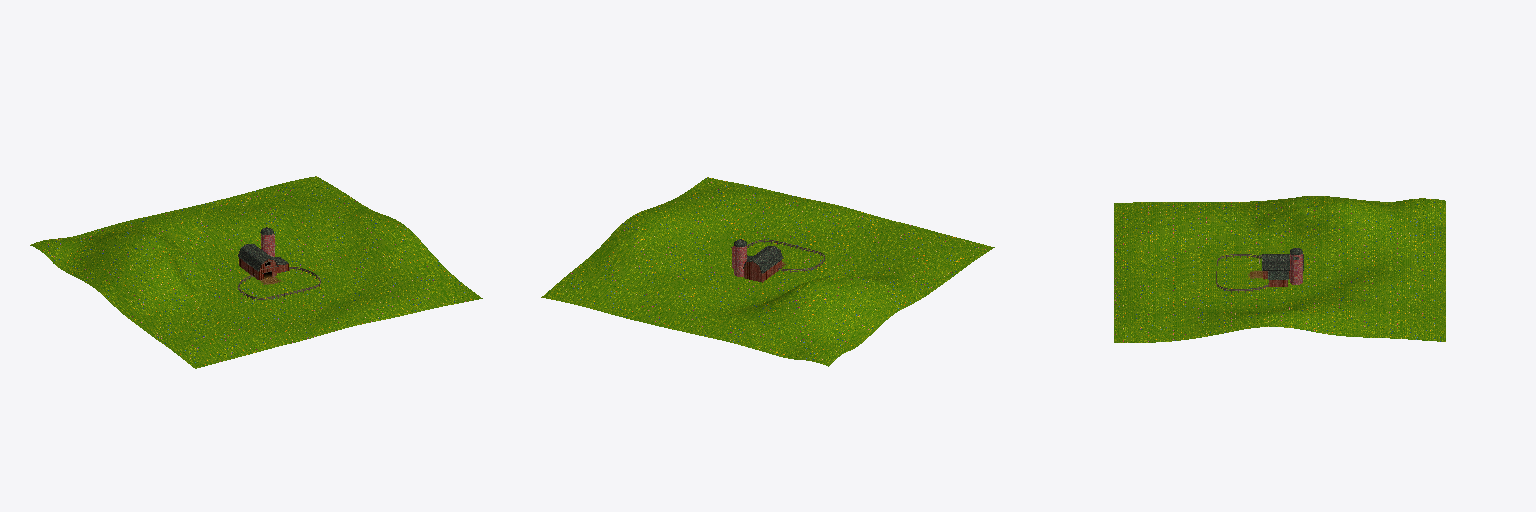
3 renders of one model, left to right at view 1: azimuth 30°, elevation 25°; view 2: azimuth 150°, elevation 25°; view 3: azimuth 270°, elevation 25°, orthographic.
Parts seen in each view (by area): view 1: Grass_Plane, Barn_Cube.001; view 2: Grass_Plane, Barn_Cube.001; view 3: Grass_Plane, Barn_Cube.001.
Part boxes in pixels (x1,y1,x2,y2): Grass_Plane: (30, 176, 482, 368); Barn_Cube.001: (238, 244, 288, 279); Grass_Plane: (541, 177, 994, 366); Barn_Cube.001: (743, 246, 783, 282); Grass_Plane: (1114, 196, 1445, 342); Barn_Cube.001: (1259, 254, 1303, 286).
Size of the model in its own units: 160 by 18.27 by 160.
Materials: 4 (4 with a texture image).